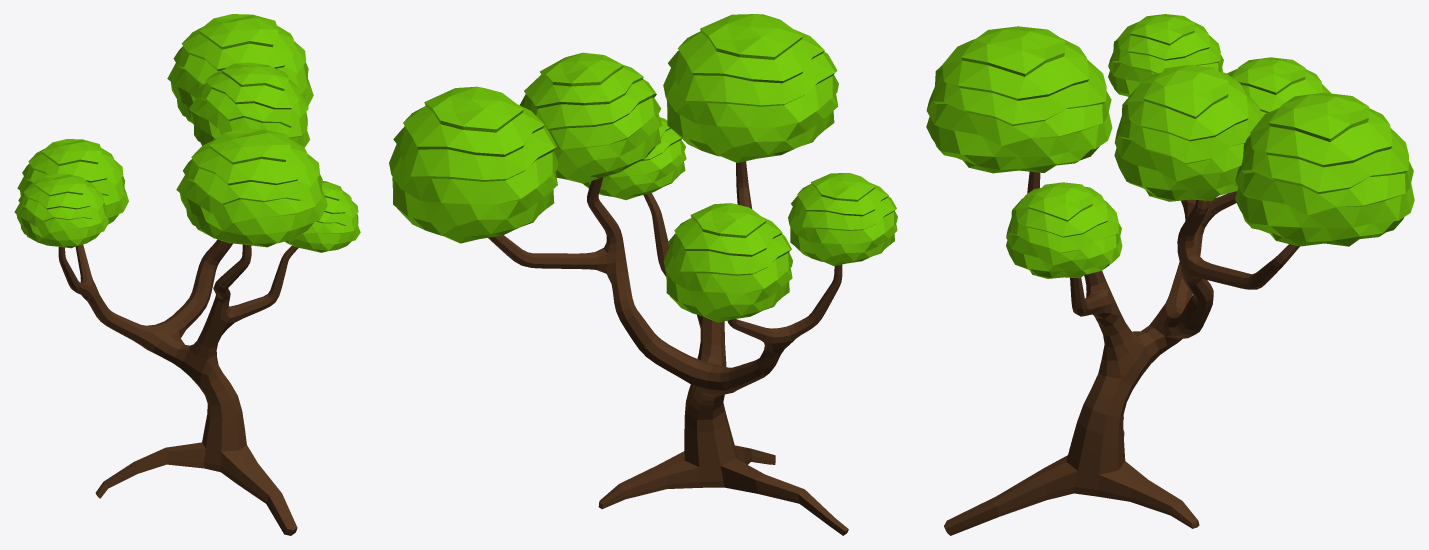
File: Tree003.fbx
3 views of the same model, side by side, from view 1: azimuth 30°, elevation 25°; view 2: azimuth 150°, elevation 25°; view 3: azimuth 270°, elevation 25° (orthographic). The views are drawn at different scales.
Parts seen in each view (by area): view 1: Icosphere, TreeStem002; view 2: Icosphere, TreeStem002; view 3: Icosphere, TreeStem002.
Part boxes in pixels (left/top/right/bottom): Icosphere: left=14, top=14, right=360, bottom=252; TreeStem002: left=58, top=239, right=298, bottom=535; Icosphere: left=389, top=14, right=897, bottom=322; TreeStem002: left=488, top=161, right=848, bottom=535; Icosphere: left=926, top=14, right=1414, bottom=278; TreeStem002: left=944, top=171, right=1299, bottom=535.
Bounding box in the file's own units: 711 × 766 × 688.
